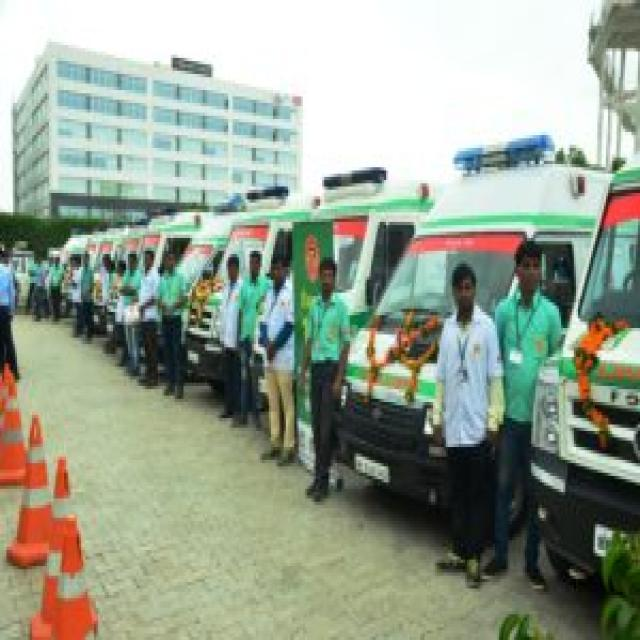ambulance: (336, 135, 604, 520), (531, 151, 640, 605), (255, 169, 430, 437), (184, 183, 296, 382)
